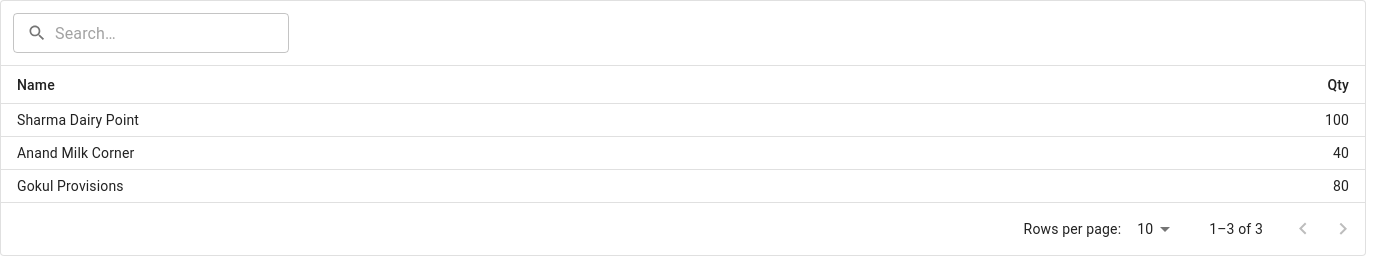
Scenario: DataTable › filters rows via the search box
Type "gokul" into the field with placeholder "Search…".
click(172, 33); type("gokul")  # box [55, 13, 289, 53]
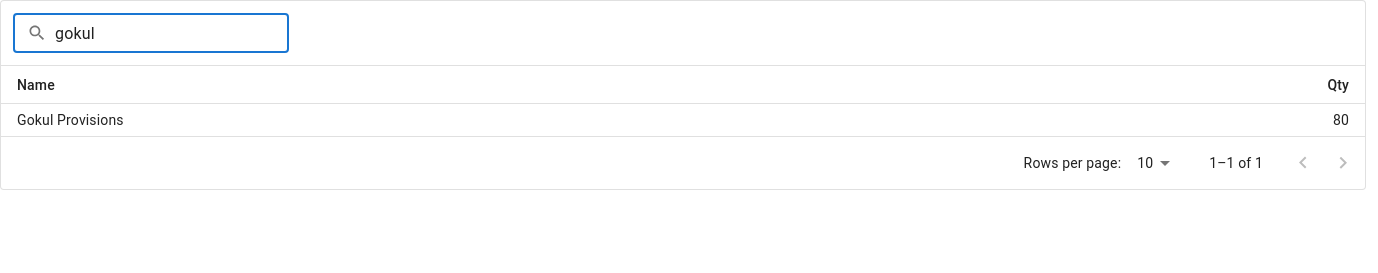
Expected: the text "Gokul Provisions" is shown, [1, 104, 868, 137]
Result: the text "Sharma Dairy Point" is gone
